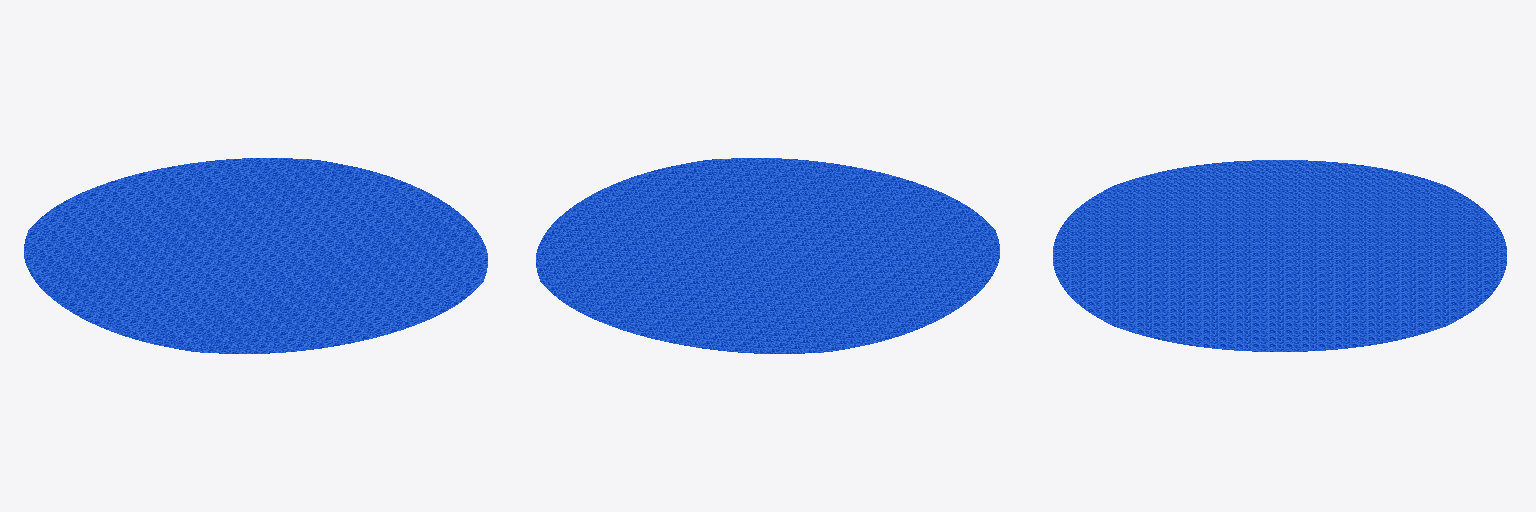
3 renders of one model, left to right at view 1: azimuth 30°, elevation 25°; view 2: azimuth 150°, elevation 25°; view 3: azimuth 270°, elevation 25°, orthographic.
Parts seen in each view (by area): view 1: Plane_Plane.037; view 2: Plane_Plane.037; view 3: Plane_Plane.037.
Boxes of the visible parts, x1=… form: Plane_Plane.037: x1=24, y1=158, x2=487, y2=353; Plane_Plane.037: x1=536, y1=158, x2=999, y2=353; Plane_Plane.037: x1=1053, y1=160, x2=1506, y2=351.
Bounding box in the file's own units: 169 × 0 × 169.
1 materials, 1 textured.